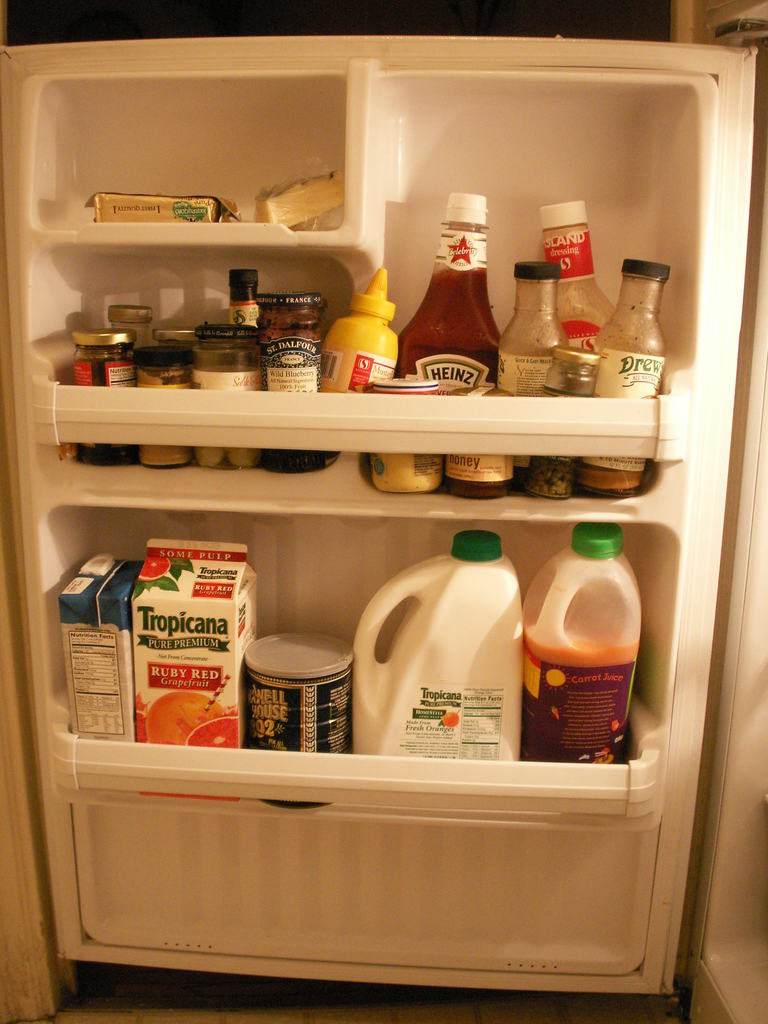refrigerator door: (31, 84, 695, 964)
